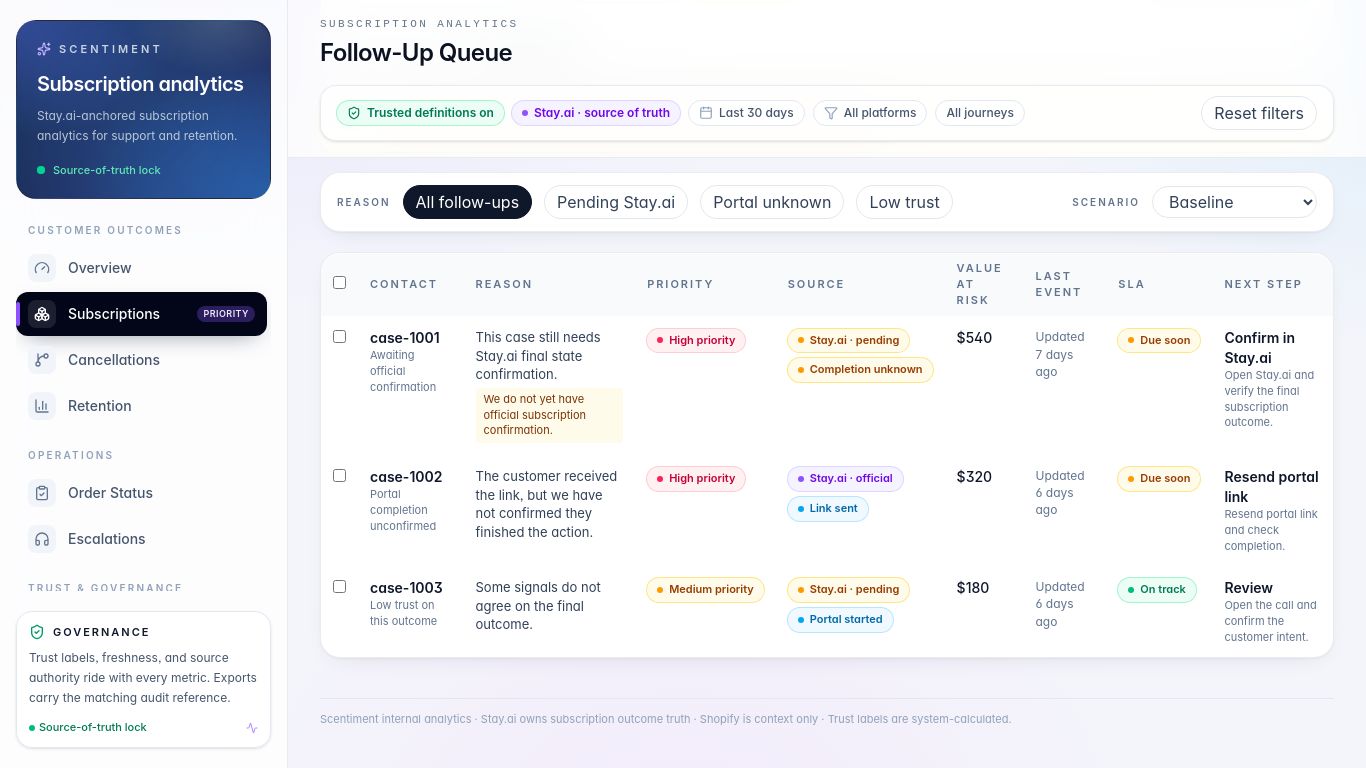
Test: FollowUpPage selection scope (regression for Codex review #31) › clears the selection when the reason filter changes (no ghost selections resurface)
(page scrolled)
Check: the table with test id "follow-up-table" is shown, box [321,253,1333,657]
Note: Select case-1002 (portal-unknown row) while viewing all follow-ups.
Click the checkbox named "Select case-1002" at x=340, y=476, box [333,469,346,482]
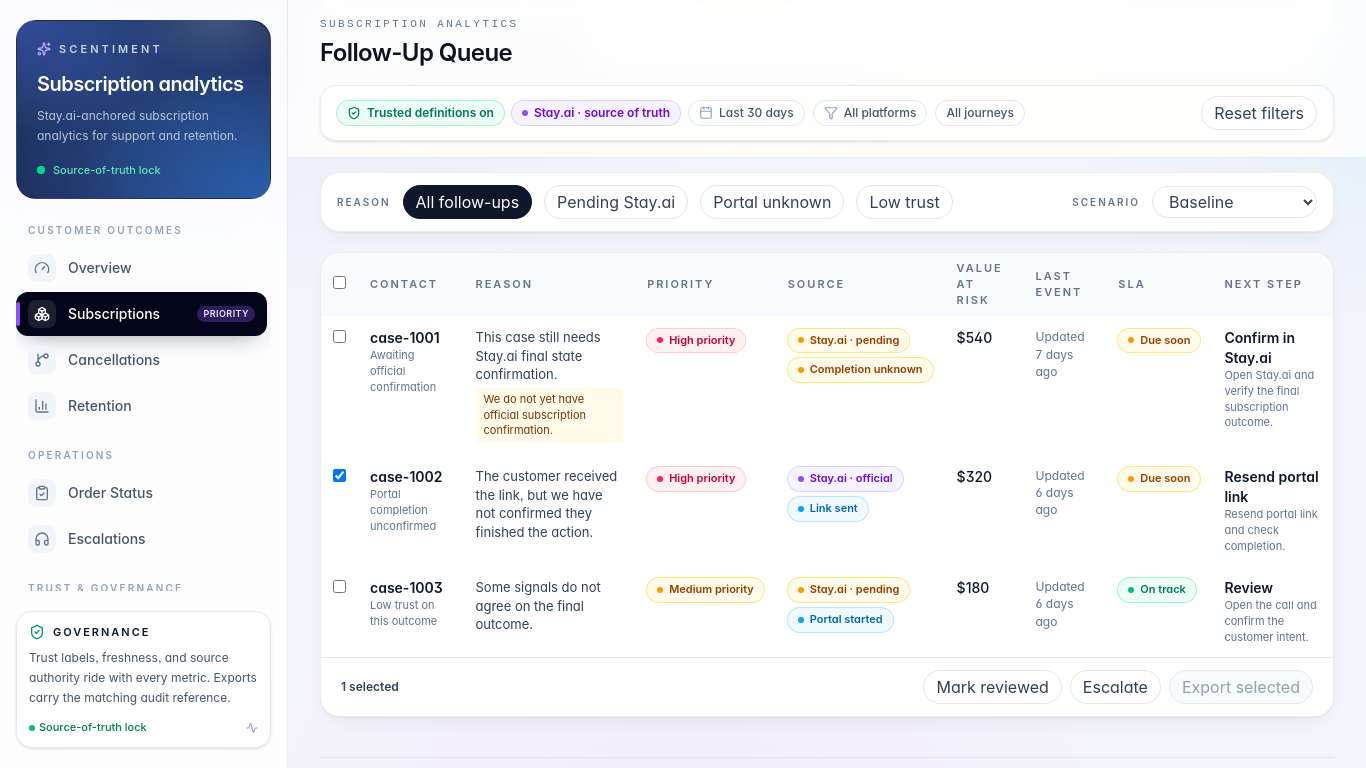
Check: the element with test id "follow-up-bulk-actions" is shown, box [321,657,1333,716]
Click the button with test id "follow-up-reason-pending_stayai" at x=616, y=202, box [544,185,688,219]
(page scrolled)
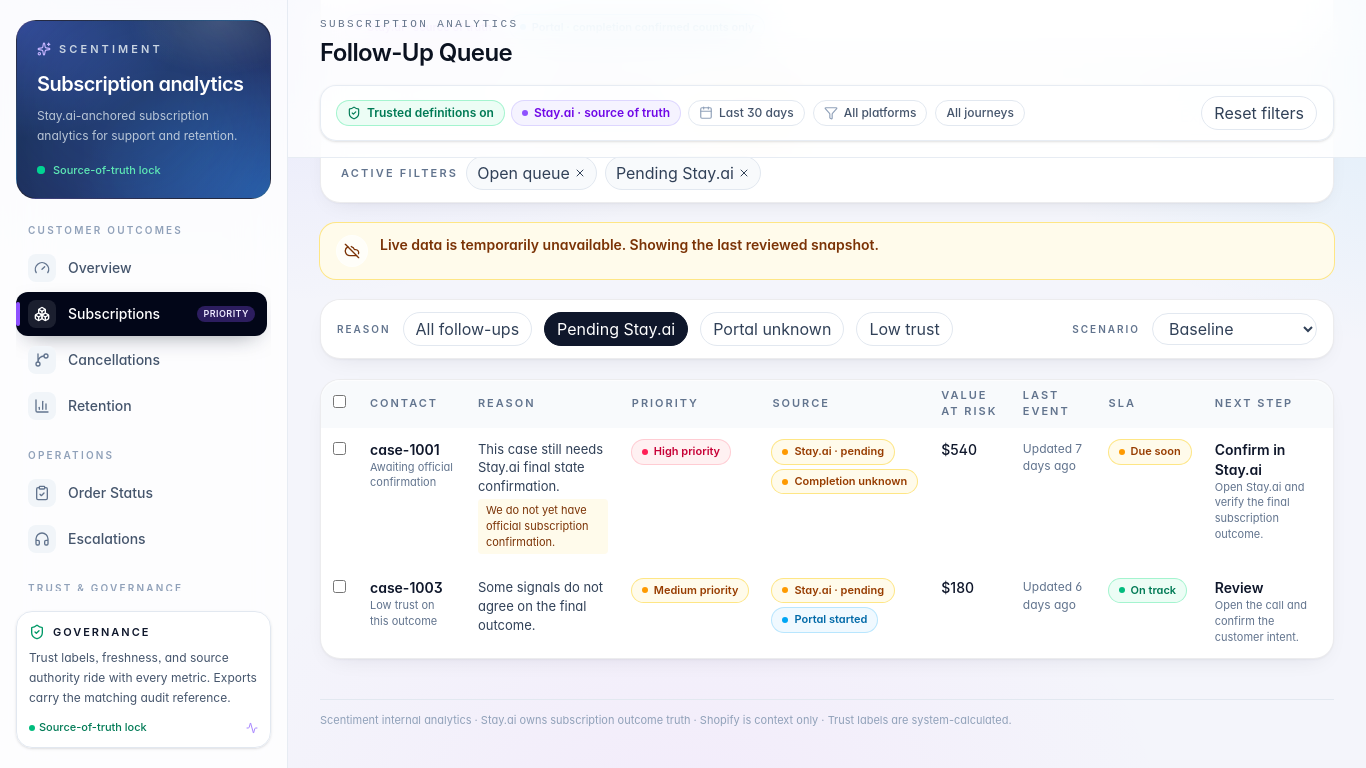
Check: the element with test id "follow-up-bulk-actions" is gone
Click the button with test id "follow-up-reason-all" at x=467, y=329, box [402,312,532,346]
(page scrolled)
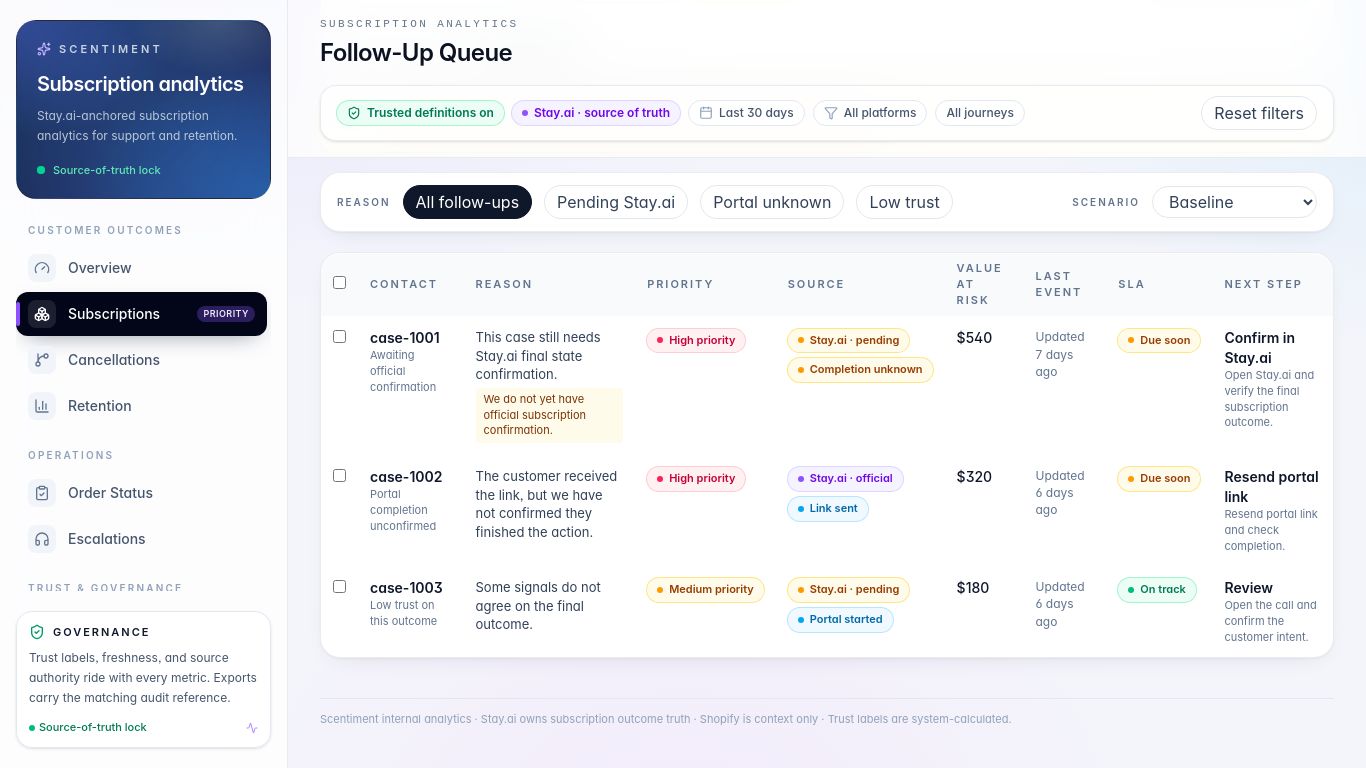
Check: the table with test id "follow-up-table" is shown, box [321,253,1333,657]
Check: the checkbox named "Select case-1002" is not checked, box [333,469,346,482]
